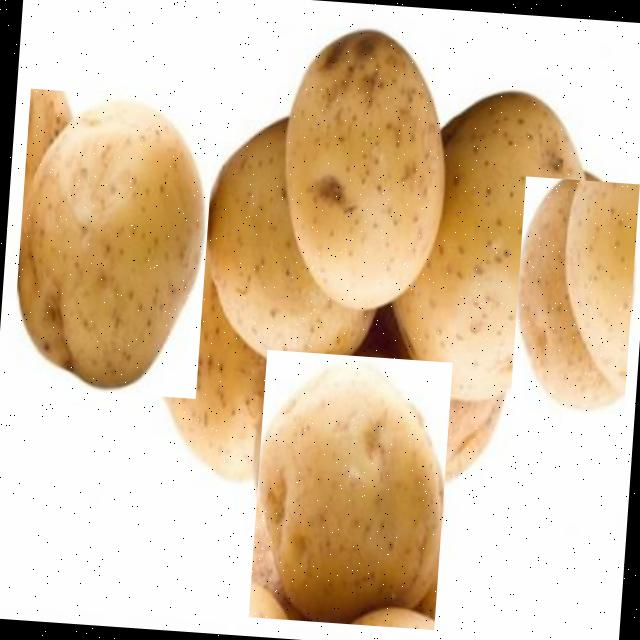Potato: (9, 88, 215, 398), (406, 88, 599, 406), (247, 348, 452, 628), (272, 20, 454, 315), (508, 175, 638, 414), (138, 300, 270, 490)
